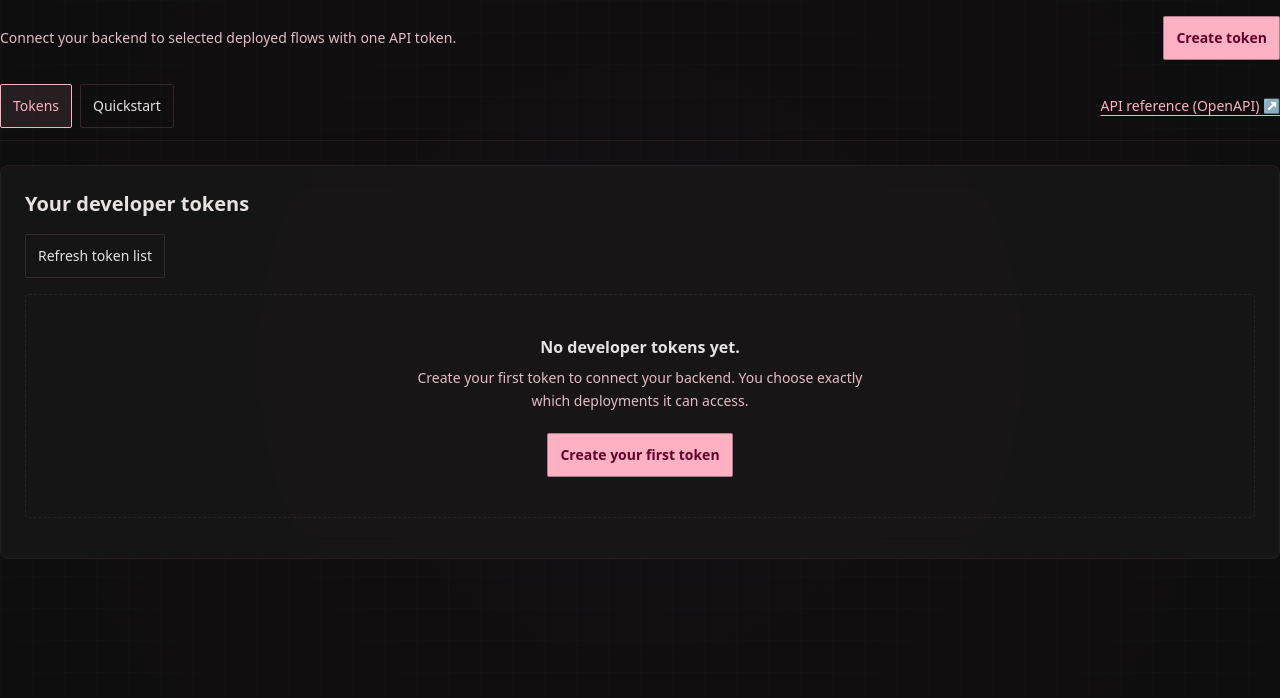
developer token management › explains recovery when token creation loses its network response
The image size is (1280, 698).
Expected: the button "Refresh token list" is shown, [25, 234, 165, 278]
Click the button "Create token" at (1222,38), box [1163, 16, 1279, 60]
(page scrolled)
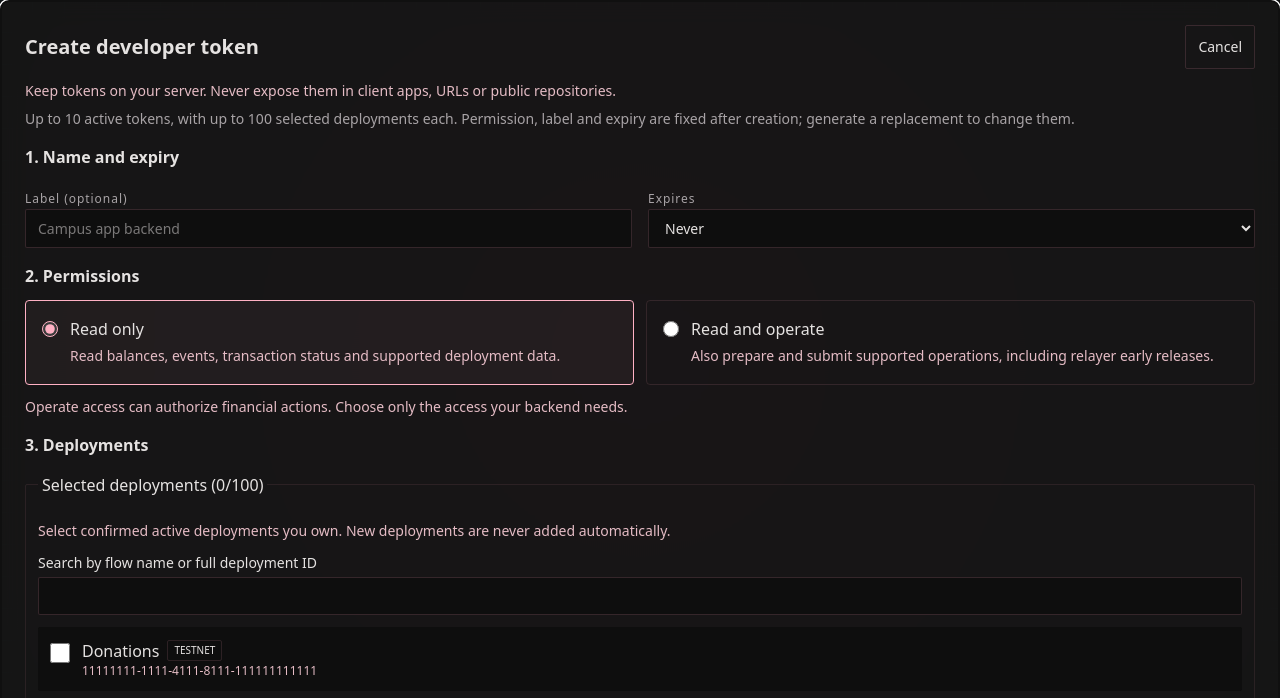
Expected: the checkbox labelled "Donations testnet 11111111-1111-4111-8111-111111111111" is shown
Click the checkbox labelled "Donations testnet 11111111-1111-4111-8111-111111111111" at (60,653), box [50, 643, 70, 663]
(page scrolled)
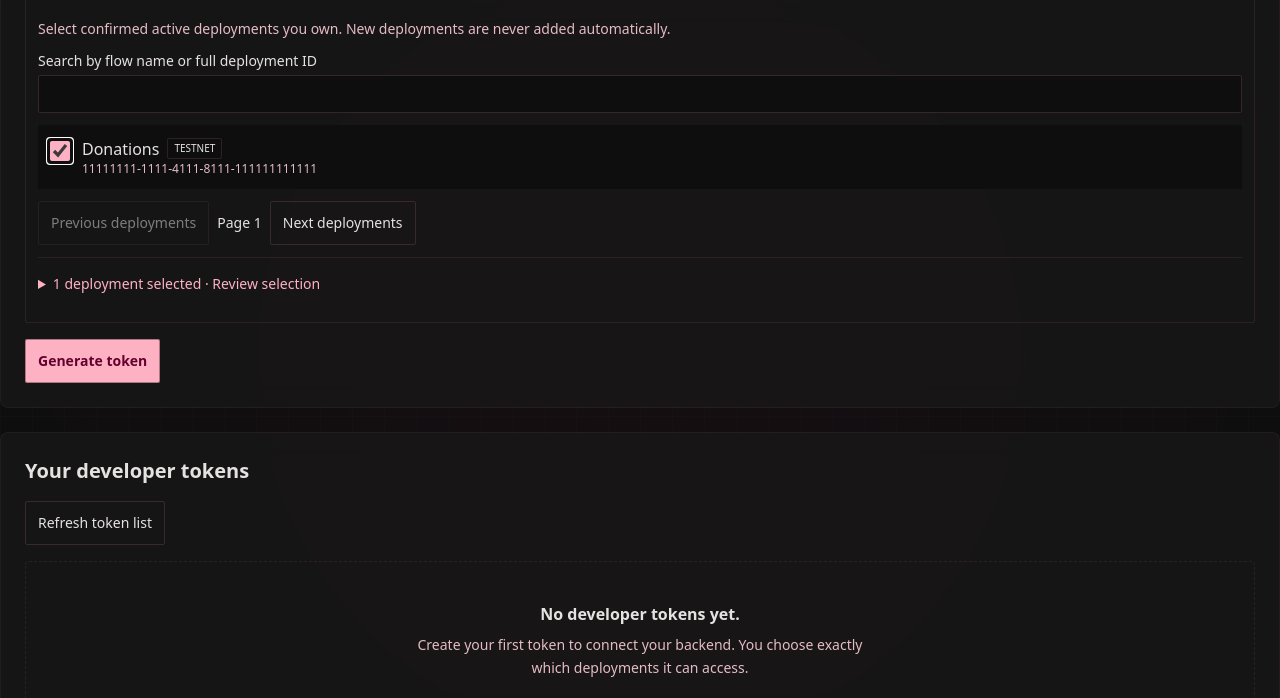
Click the button "Generate token" at (93,361), box [25, 339, 160, 383]
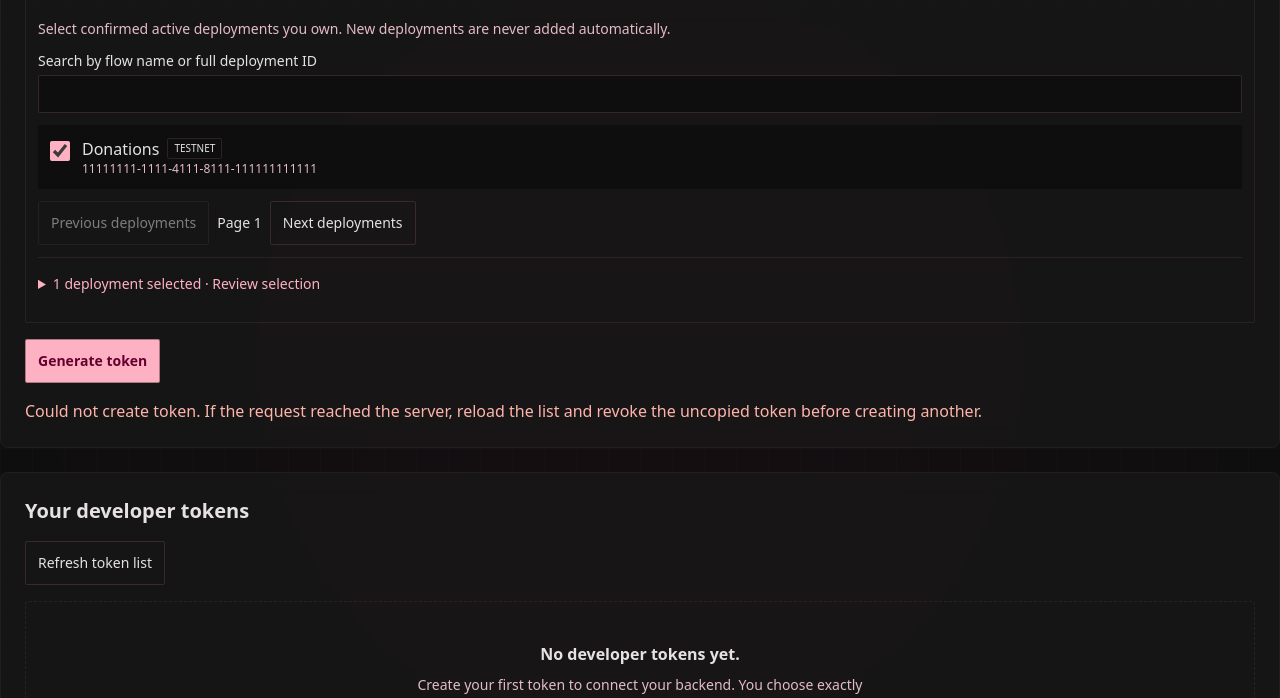
Expected: the checkbox labelled "Donations testnet 11111111-1111-4111-8111-111111111111" is checked, [50, 141, 70, 161]
Expected: the text "revoke the uncopied token before creating another" is shown, [25, 400, 982, 422]
